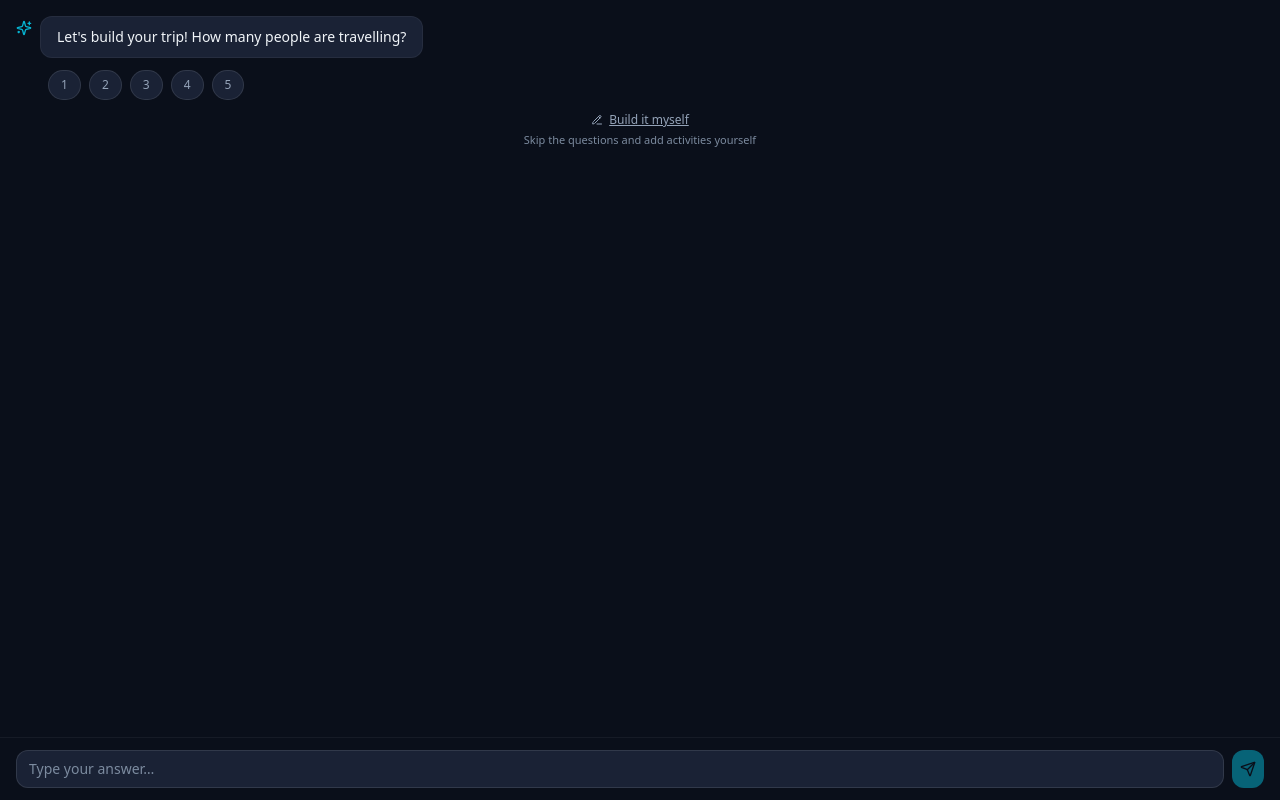
IntakeChat suggestions › accumulates into the input for a multi-value question instead of submitting
Click the button with test id "intake-suggestion-2". click: (105, 85)
box: x1=89 y1=70 x2=122 y2=100
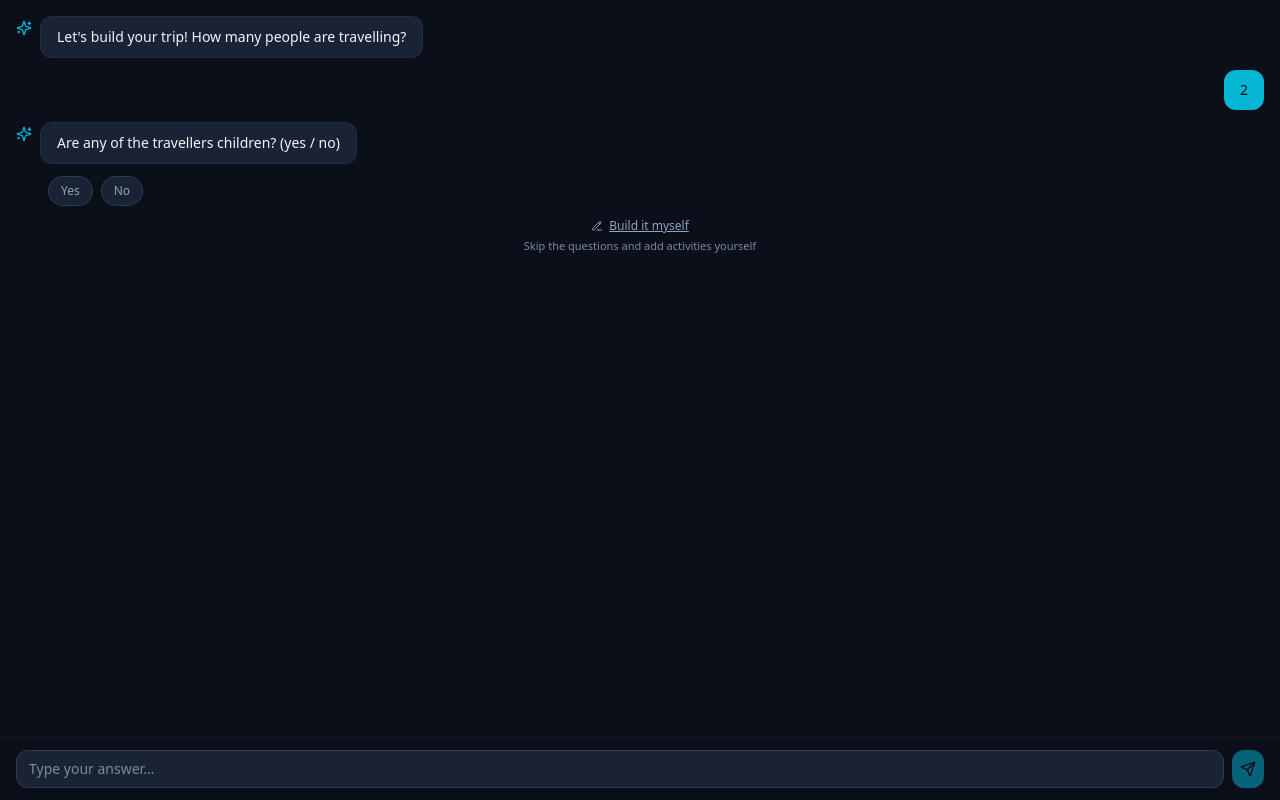
Result: the text "Are any of the travellers children? (yes / no)" is shown at x1=40 y1=122 x2=357 y2=164
Click the button with test id "intake-suggestion-No". click: (122, 191)
box: x1=101 y1=176 x2=143 y2=206
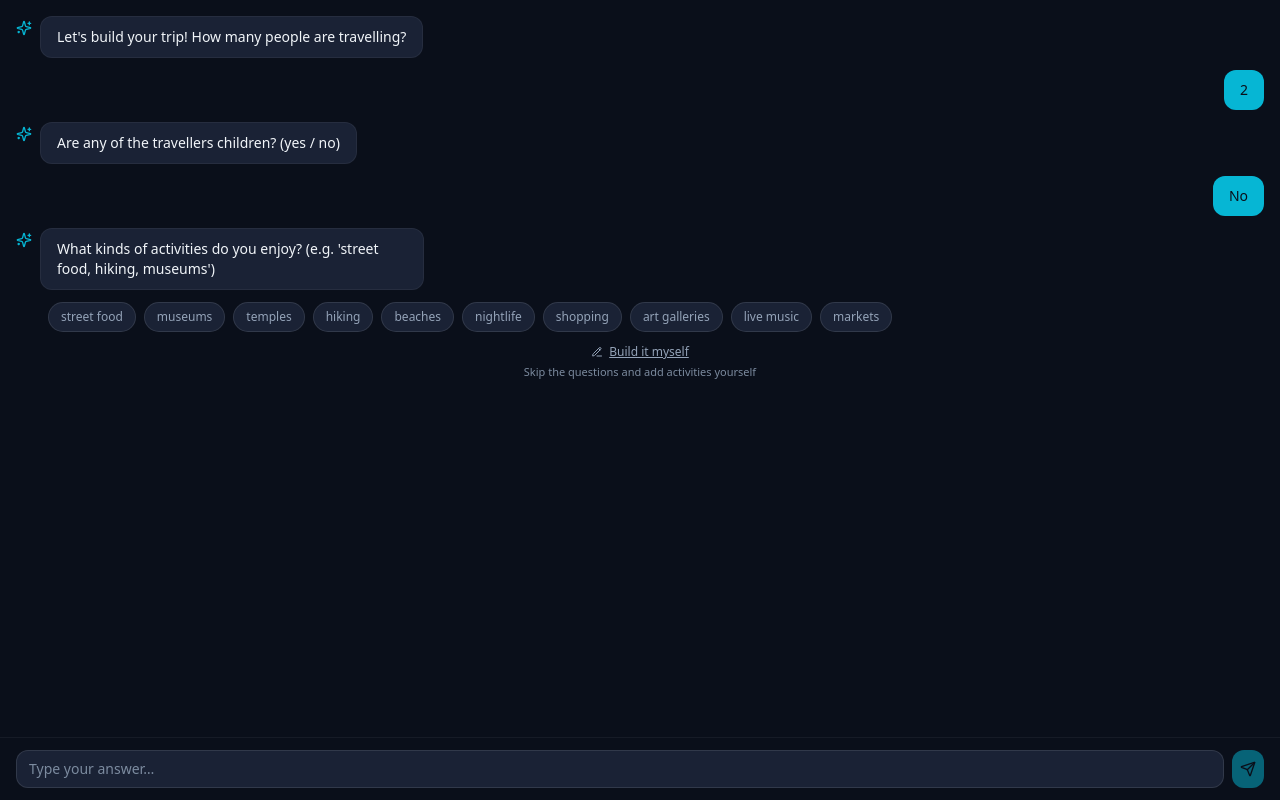
Click the button with test id "intake-suggestion-street food". click: (92, 317)
box: x1=48 y1=302 x2=136 y2=332
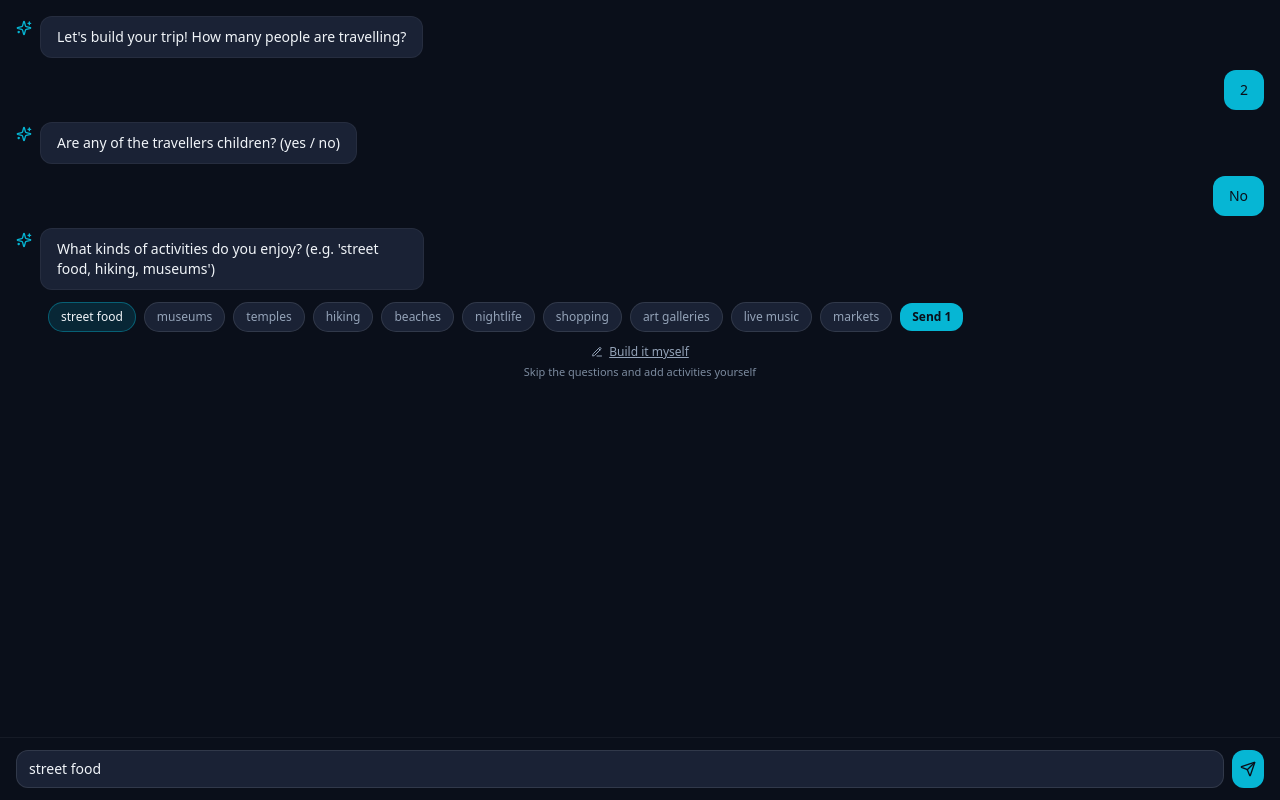
Click the button with test id "intake-suggestion-museums". click: (185, 317)
box: x1=144 y1=302 x2=225 y2=332
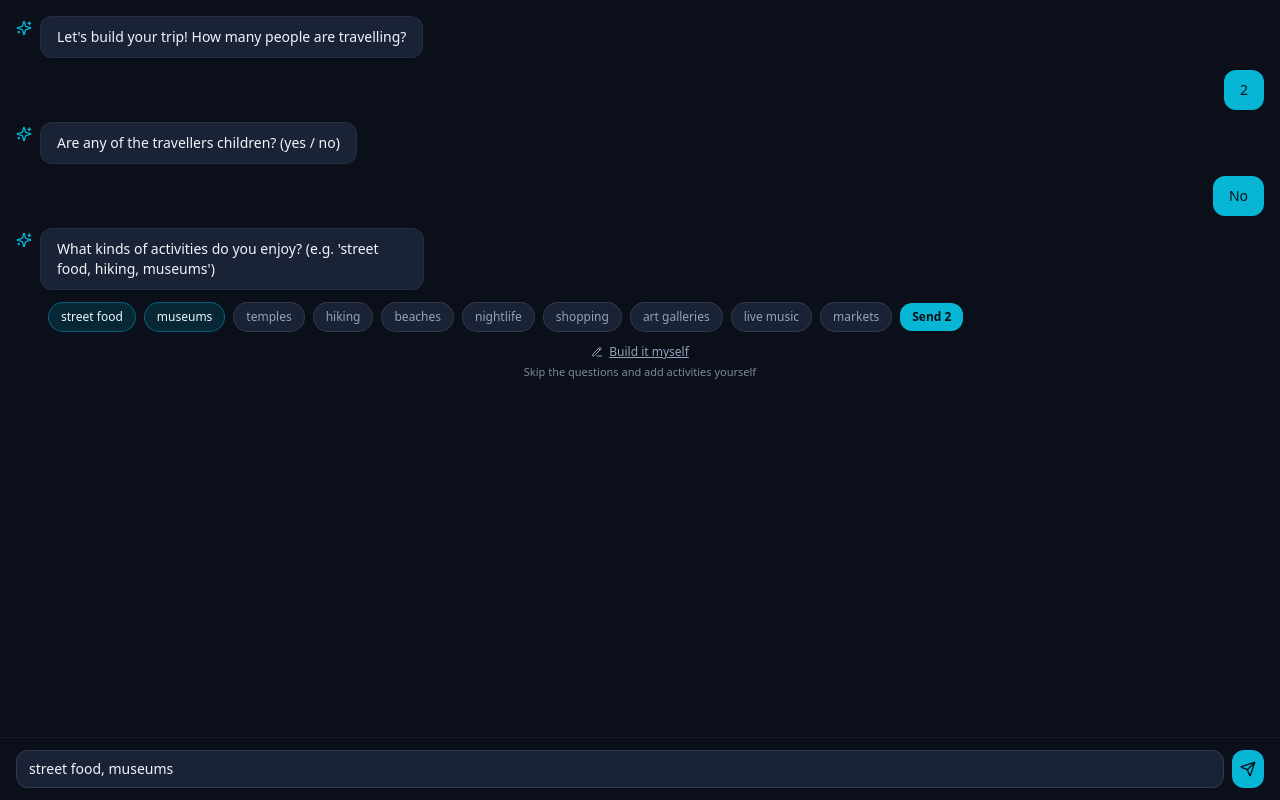
Expected: the element with test id "intake-suggestions" is shown, x1=48 y1=302 x2=963 y2=332
Result: the field with test id "intake-input" holds "street food, museums" at x1=16 y1=750 x2=1224 y2=788
